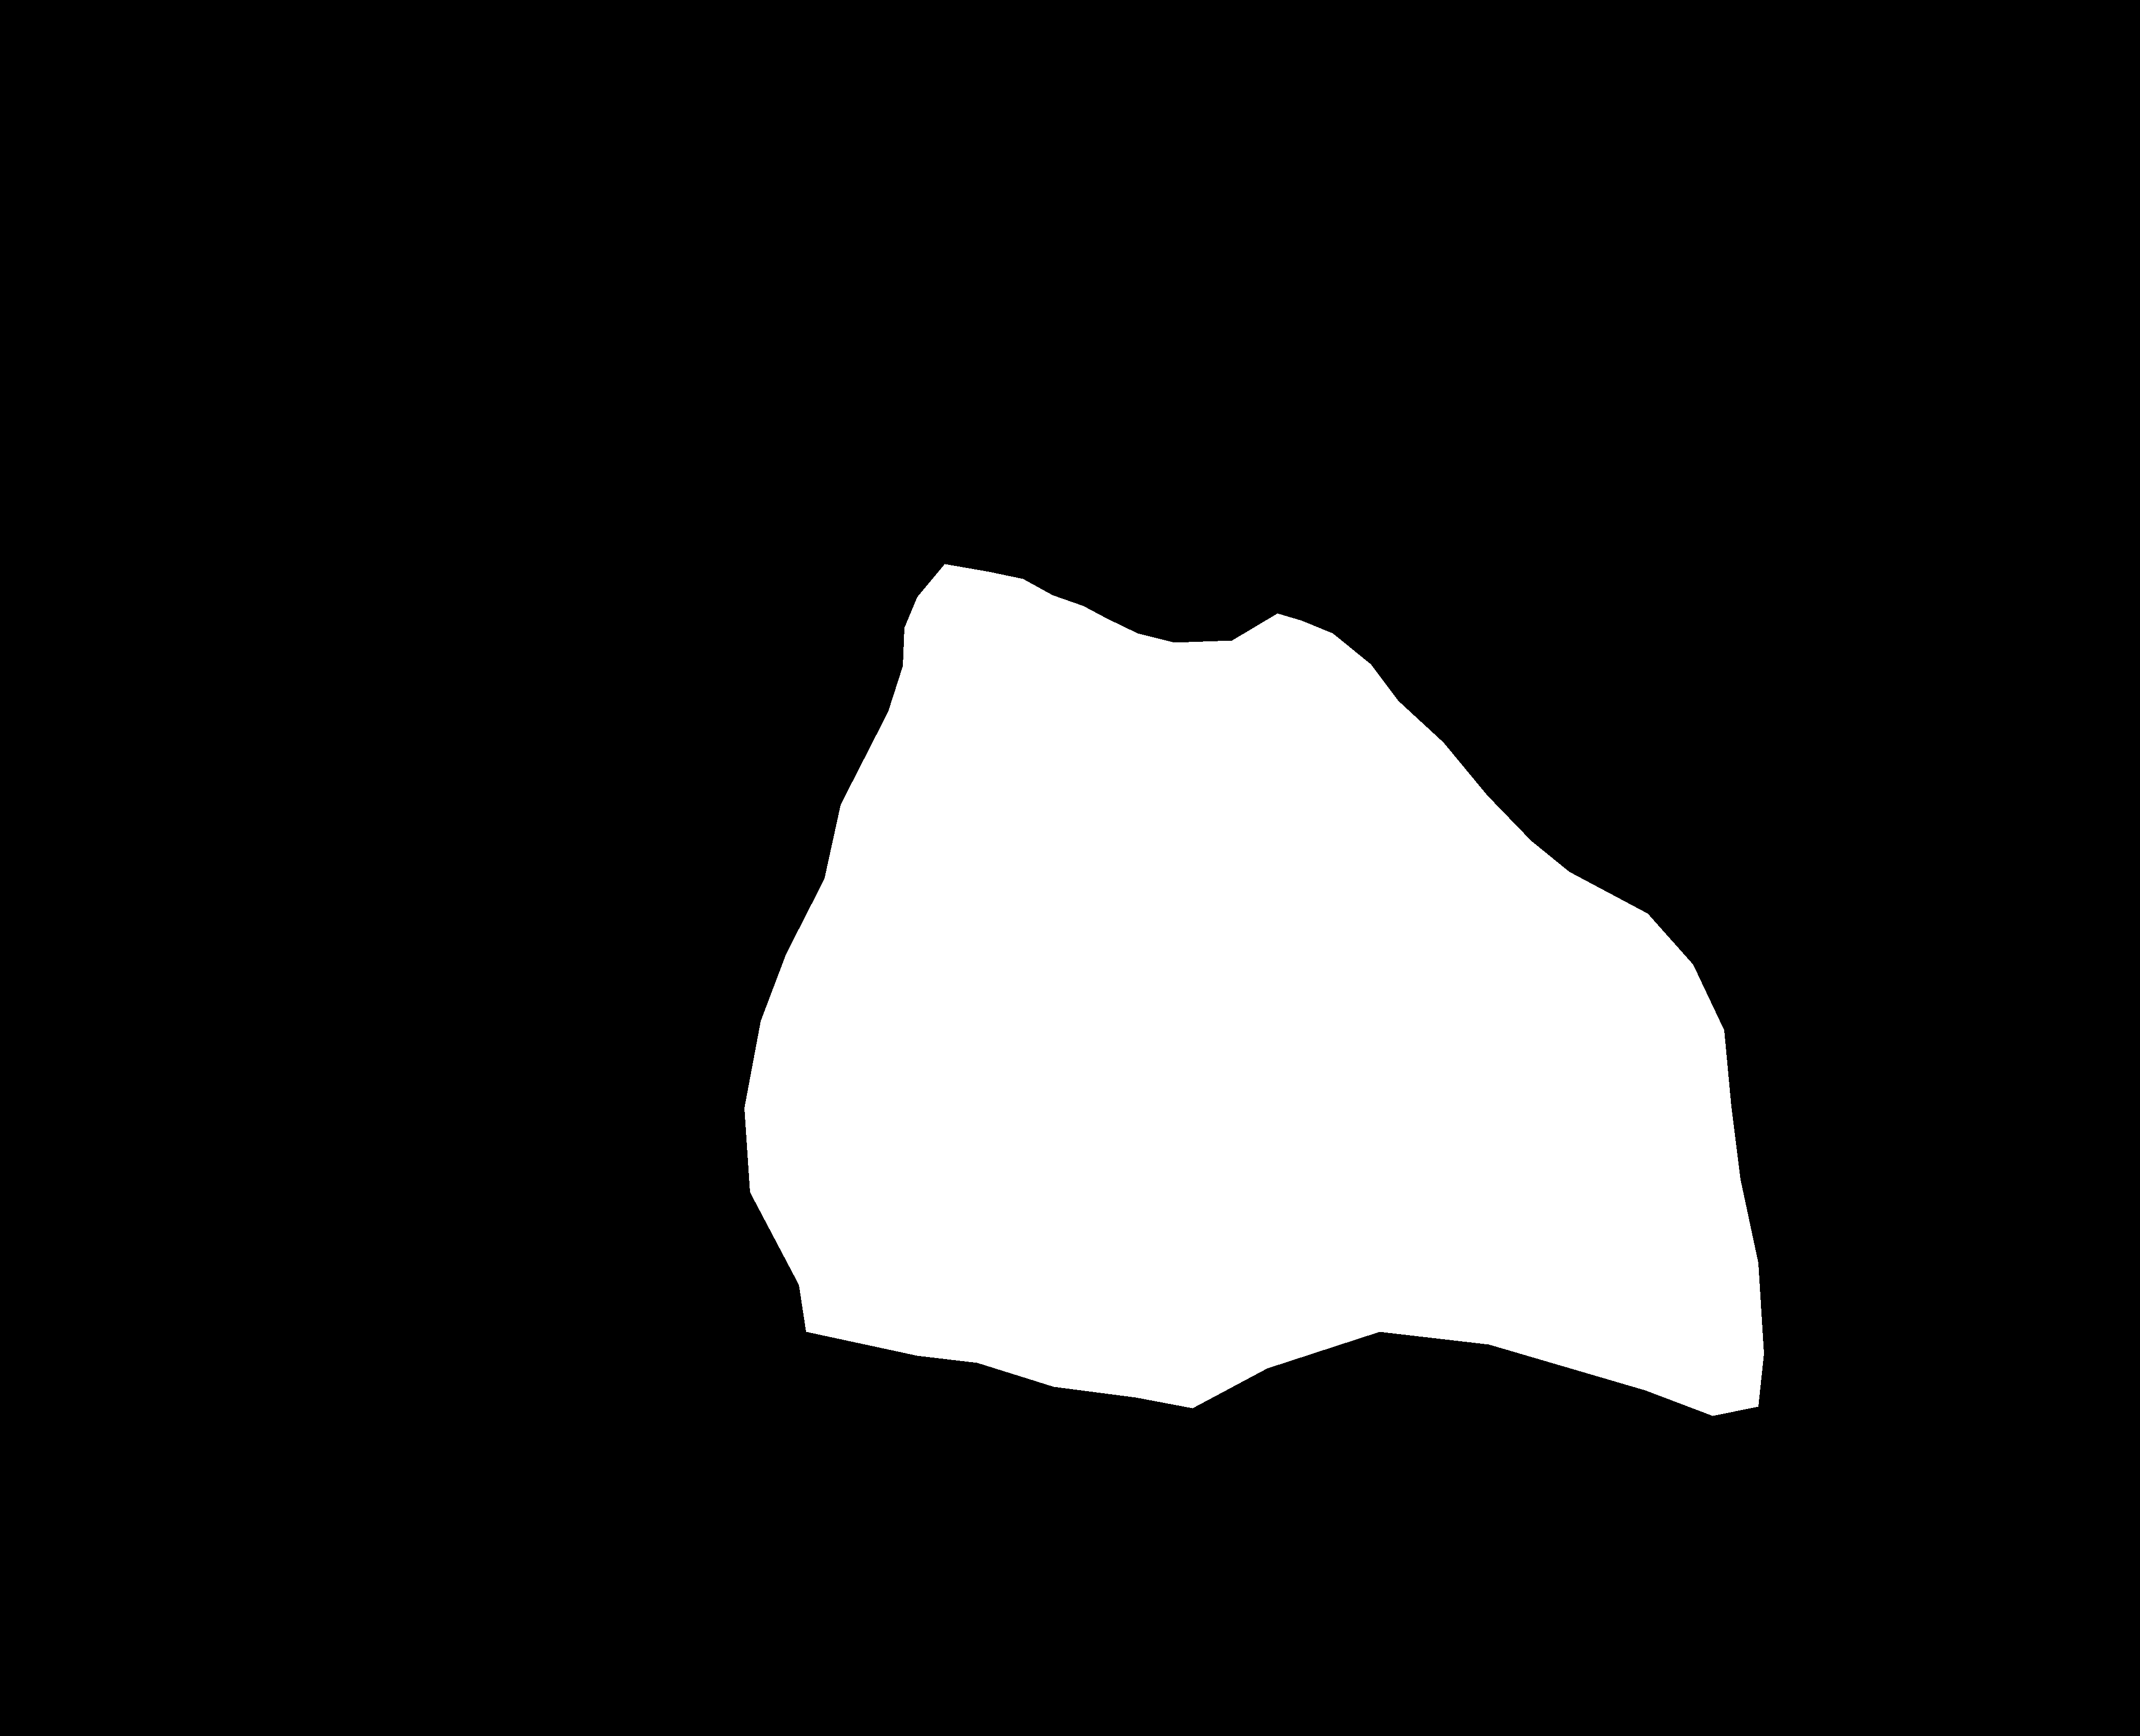heart: (744, 563, 1763, 1415)
left_lung: (280, 223, 981, 1410)
right_lung: (1182, 269, 1688, 900)
